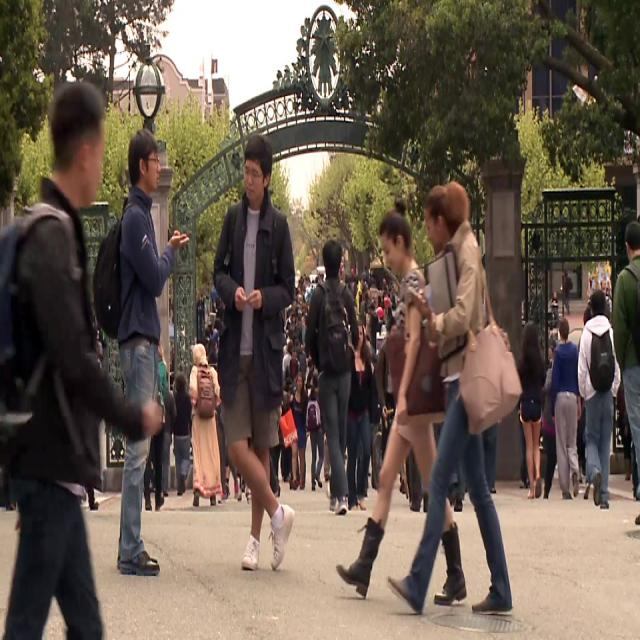body: (0, 74, 169, 638), (385, 176, 525, 620), (334, 191, 469, 608), (89, 125, 192, 580), (210, 129, 298, 574), (371, 386, 500, 516), (303, 235, 361, 518), (575, 287, 622, 512), (611, 217, 639, 528), (345, 319, 382, 513), (548, 313, 584, 501), (187, 340, 225, 510), (277, 269, 325, 397), (516, 318, 548, 502), (338, 267, 401, 358), (536, 289, 562, 503), (278, 368, 312, 492), (88, 318, 108, 510), (221, 446, 290, 501), (303, 370, 328, 492), (173, 373, 193, 498), (579, 257, 612, 332), (160, 369, 179, 499), (142, 411, 166, 512), (201, 283, 223, 370), (516, 396, 530, 492), (575, 398, 587, 487), (564, 270, 574, 315)
